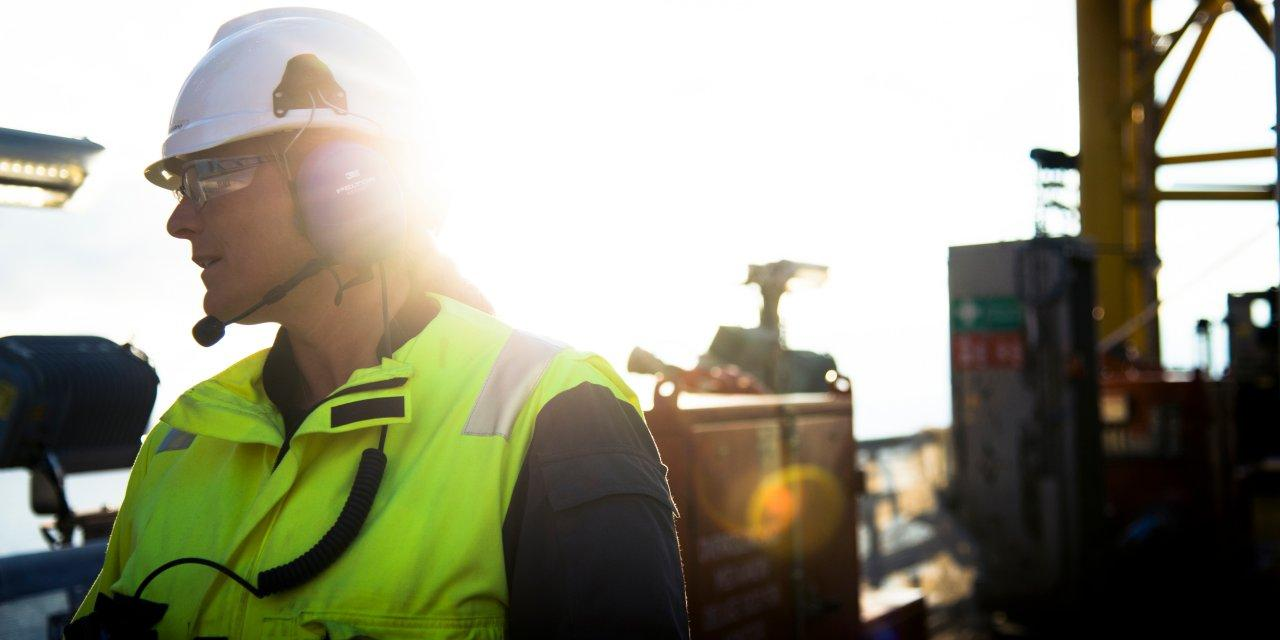helmet: (144, 7, 426, 194)
